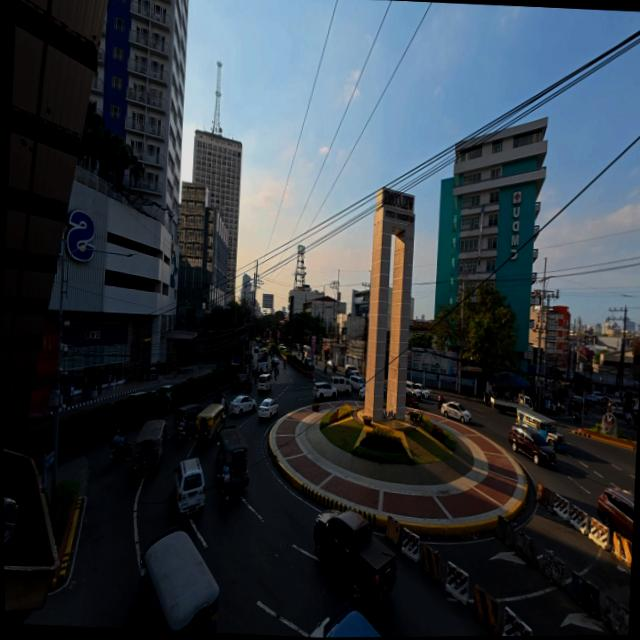Jeepneys: (139, 527, 218, 632), (309, 603, 380, 637), (216, 427, 248, 489), (133, 419, 165, 476), (195, 403, 224, 447), (516, 408, 556, 439), (546, 432, 566, 453), (630, 401, 638, 427)
bus: (257, 348, 267, 372)
car: (597, 487, 634, 540), (508, 425, 555, 466), (172, 405, 201, 429), (441, 402, 470, 423), (229, 396, 255, 415), (312, 383, 336, 401), (257, 398, 277, 418), (26, 413, 53, 427), (231, 374, 251, 391), (413, 383, 430, 400), (155, 385, 172, 401), (349, 374, 364, 391), (567, 397, 582, 414), (405, 390, 418, 408), (124, 390, 145, 399), (344, 364, 356, 377), (592, 391, 603, 402), (326, 360, 335, 371), (304, 357, 313, 368), (358, 385, 364, 399), (271, 358, 279, 368), (349, 370, 359, 377), (279, 345, 286, 351), (253, 345, 258, 353)
motorcycle: (109, 439, 130, 464), (177, 421, 190, 443), (219, 482, 229, 508), (213, 390, 221, 403), (436, 398, 443, 410), (572, 412, 580, 422), (323, 364, 326, 373)
trucks: (313, 510, 395, 602), (484, 394, 532, 414)
vans: (172, 456, 207, 515), (330, 376, 350, 394), (256, 373, 271, 394), (405, 380, 421, 399), (607, 400, 622, 416)
